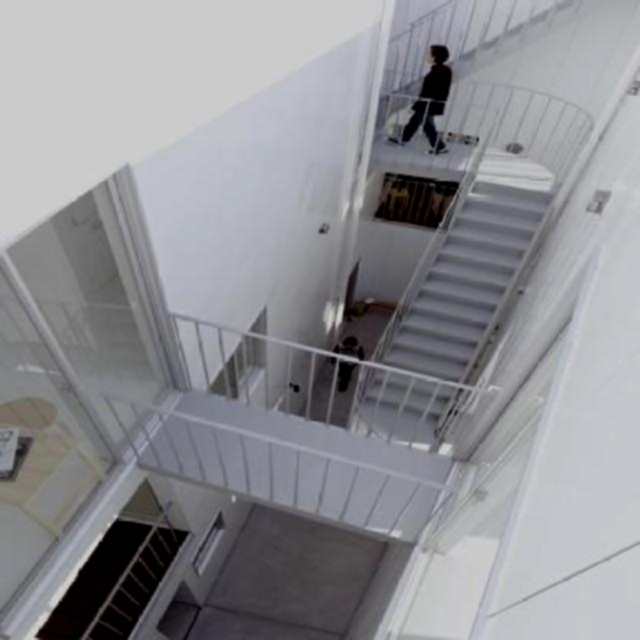stair: (346, 165, 603, 453)
